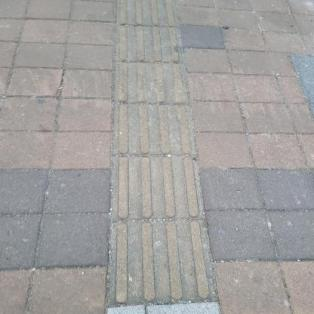Podoctatil: (104, 0, 220, 310)
